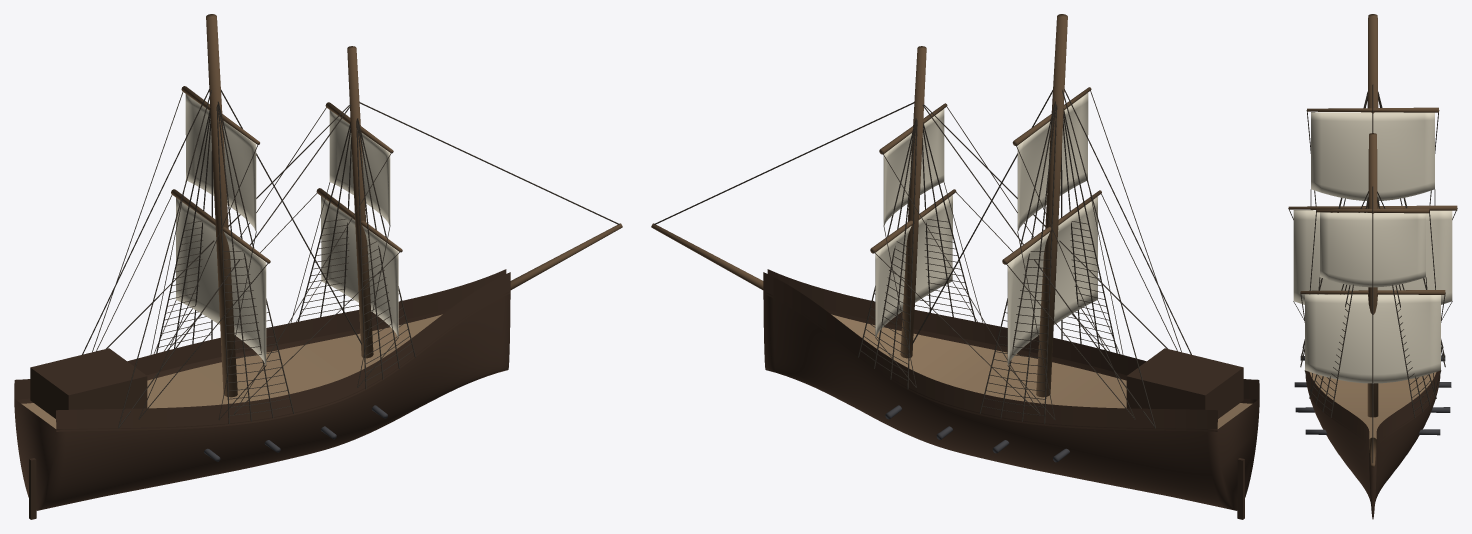
The model's file is SM_PirateShip.glb.
The picture shows the model from 3 angles, left to right: view 1: azimuth 30°, elevation 25°; view 2: azimuth 150°, elevation 25°; view 3: azimuth 270°, elevation 25°; orthographic projection. The views are drawn at different scales.
Parts seen in each view (by area): view 1: SM_PirateShip; view 2: SM_PirateShip; view 3: SM_PirateShip.
Boxes of the visible parts, x1,y1,x2,y2 form: SM_PirateShip: (14,14,622,519); SM_PirateShip: (651,14,1259,519); SM_PirateShip: (1288,14,1457,519).
Size of the model in its own units: 37.53 by 27.8 by 10.55.
